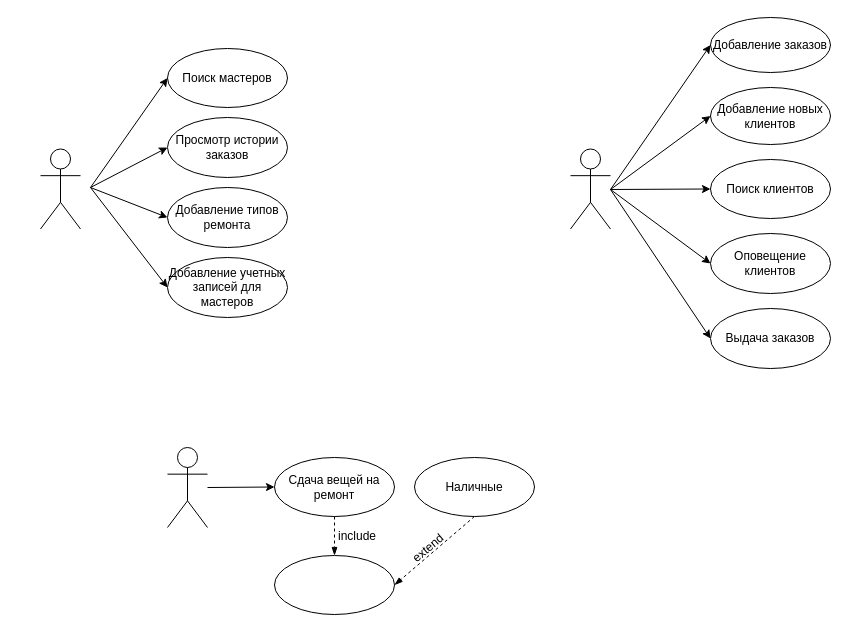
Image size: 848x632. Some labels were removed from this diagram. Each missing label, with the centre of its shape:
"Администратор" belongs at [60,188].
"Клиент" belongs at [187,487].
"Мастер" belongs at [590,188].
"Оплата заказа" belongs at [334,584].
